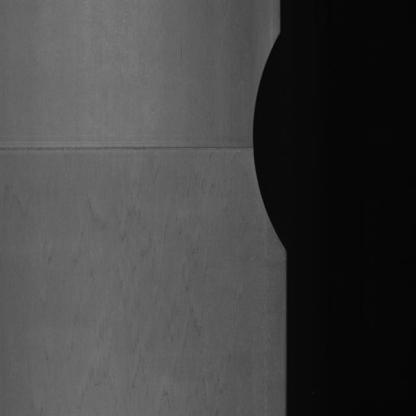welding_line: (1, 135, 262, 169)
